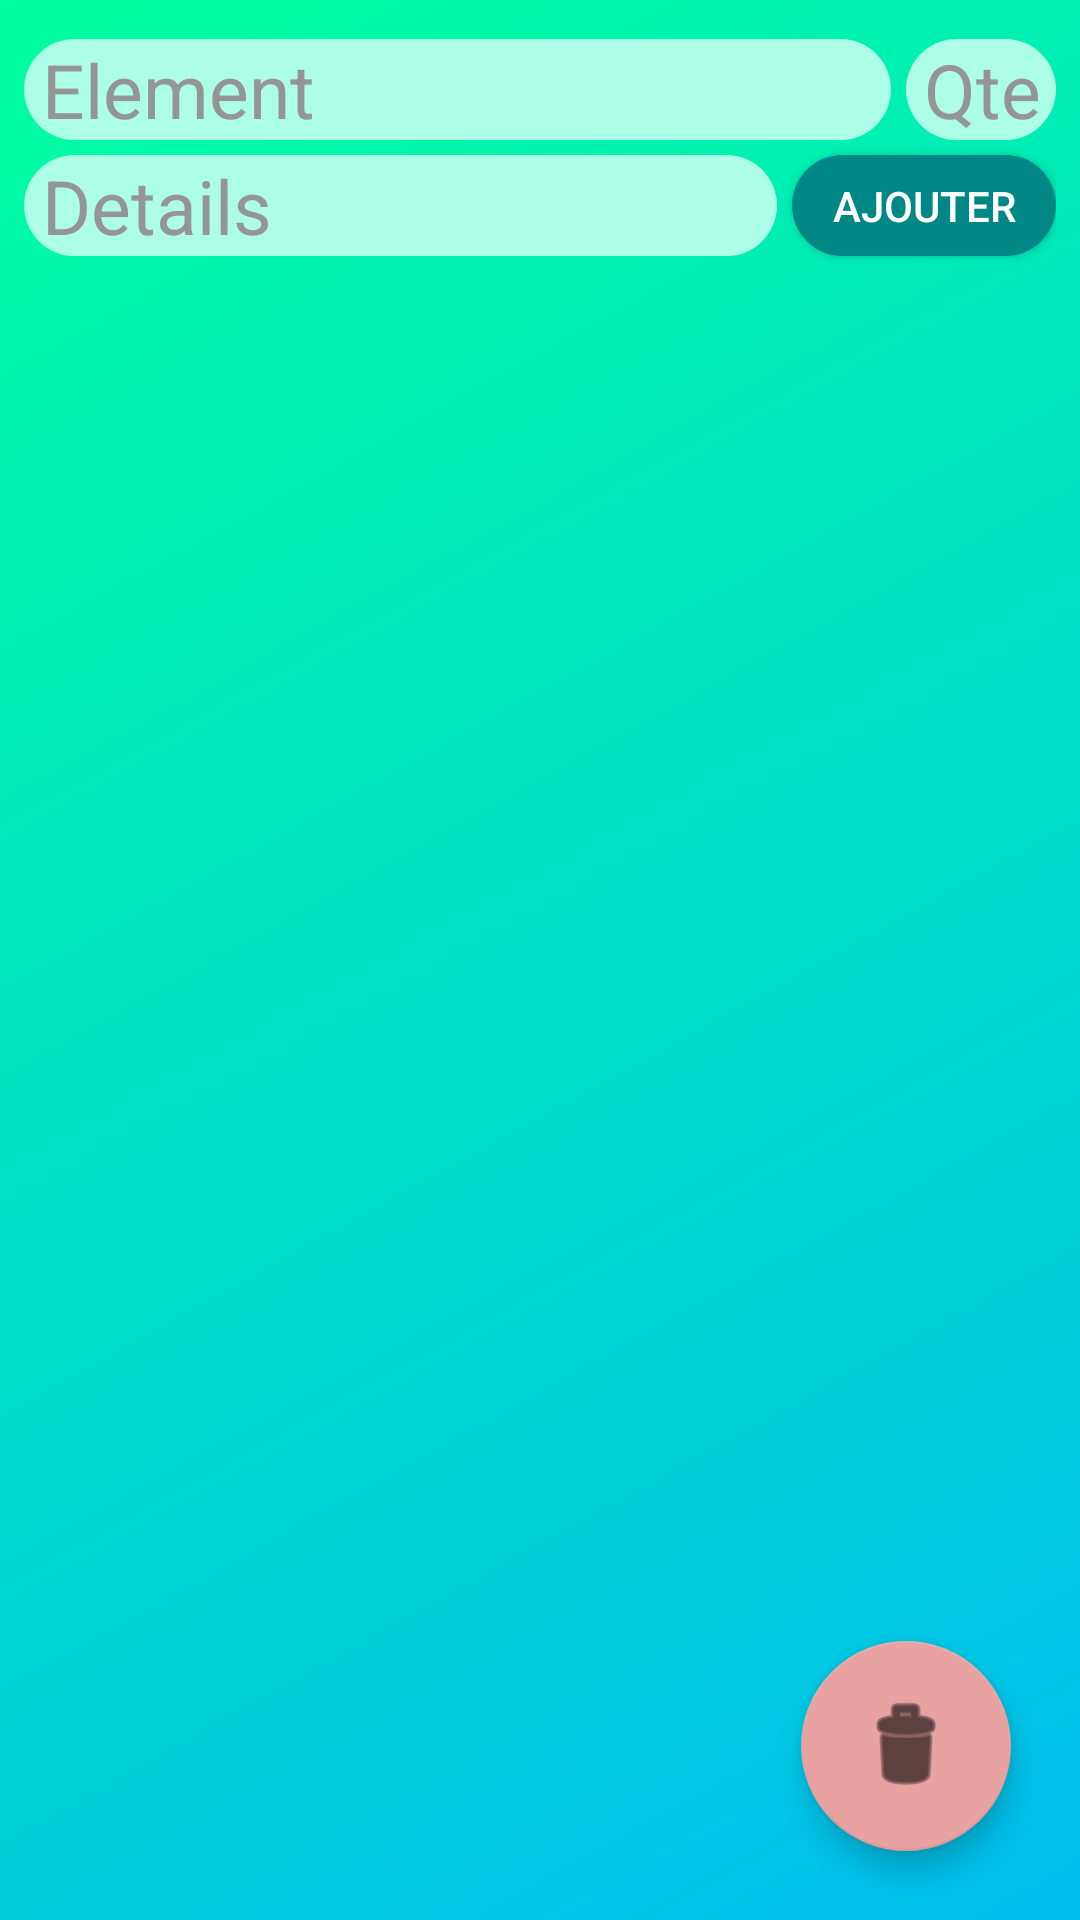

Named icons in this screenshot (1080 x 1920) and their bounding boxes, [x1,y1,x2,y2]:
delete: [801,1641,1011,1851]
